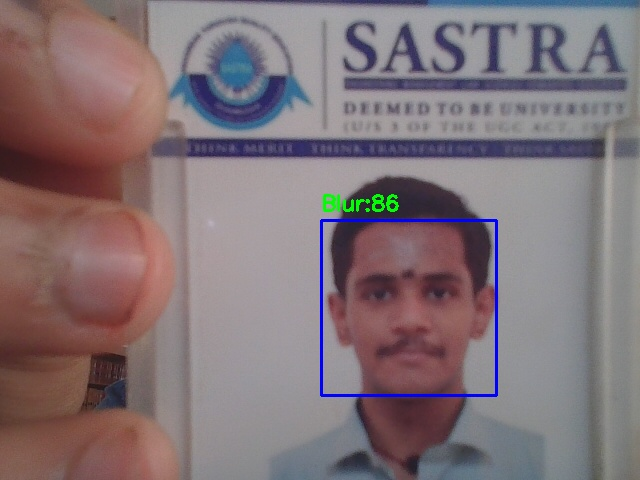fake: (321, 220, 496, 395)
